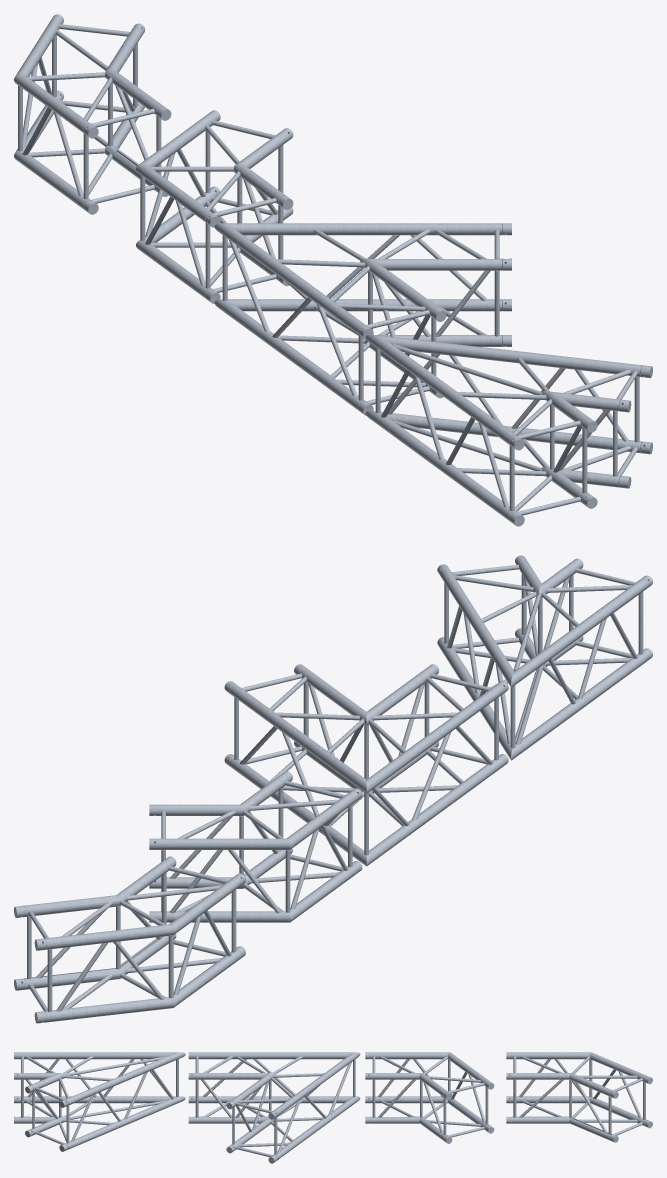
The model's file is Prolyte_H40V_Angles-39b8f05f.glb.
3 renders of one model, top to bottom at view 1: azimuth 30°, elevation 25°; view 2: azimuth 150°, elevation 25°; view 3: azimuth 270°, elevation 25°, orthographic. The views are drawn at different scales.
Bounding box in the file's own units: 1.07 × 0.3999 × 4.61.
Materials: 1 (1 with a texture image).
